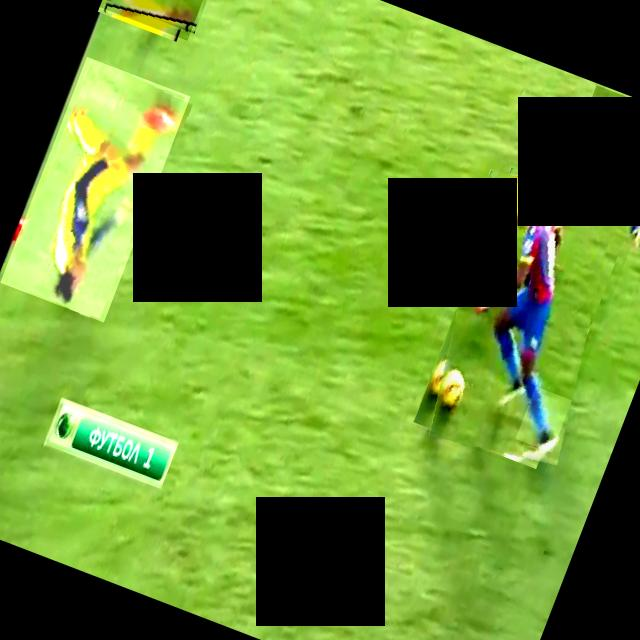ball: (516, 387, 572, 453)
soccer-player: (403, 159, 640, 476), (0, 57, 190, 323), (558, 85, 640, 221), (97, 0, 224, 41)
